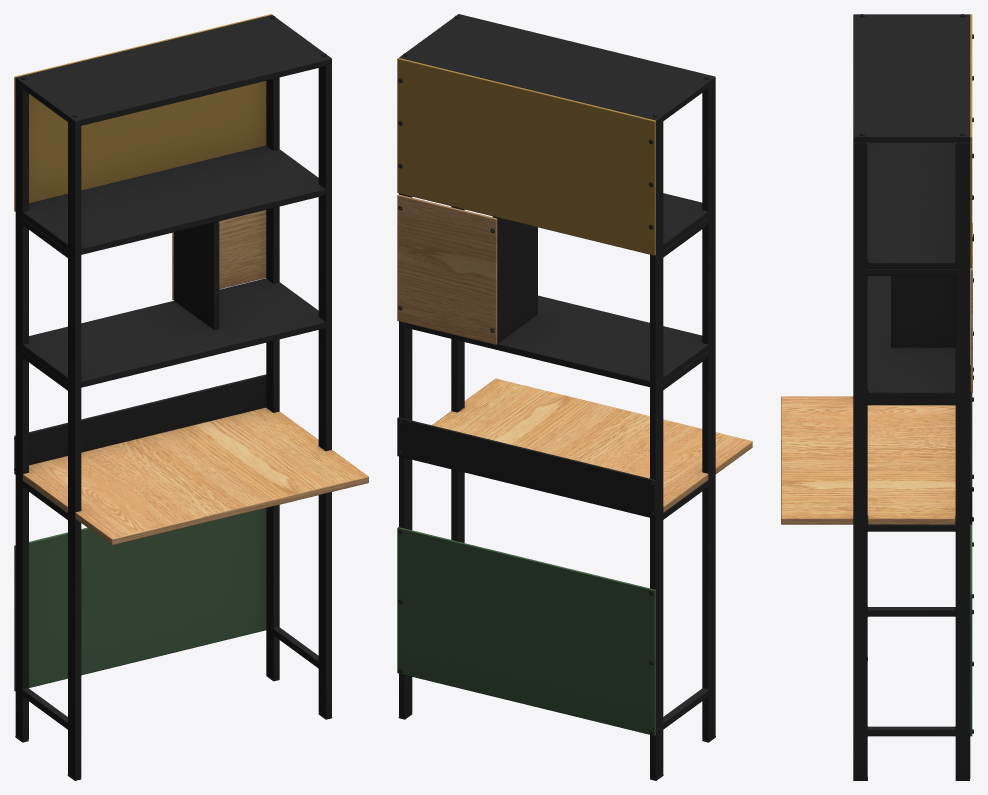
Rendered from DSKDUN001MUL-UK.fbx.
The picture shows the model from 3 angles, left to right: view 1: azimuth 30°, elevation 25°; view 2: azimuth 150°, elevation 25°; view 3: azimuth 270°, elevation 25°; orthographic projection. The views are drawn at different scales.
Parts seen in each view (by area): view 1: STEEL_BLACK001, GREEN001, WOOD001, YELLOW001; view 2: STEEL_BLACK001, GREEN001, YELLOW001, WOOD001; view 3: STEEL_BLACK001, WOOD001, YELLOW001, GREEN001.
Boxes of the visible parts, <box> form: STEEL_BLACK001: <box>14,15,332,780</box>; GREEN001: <box>14,508,266,691</box>; WOOD001: <box>23,210,368,545</box>; YELLOW001: <box>14,14,272,211</box>; STEEL_BLACK001: <box>397,14,715,780</box>; GREEN001: <box>397,527,655,735</box>; YELLOW001: <box>397,58,655,255</box>; WOOD001: <box>397,194,752,512</box>; STEEL_BLACK001: <box>853,14,973,780</box>; WOOD001: <box>781,223,972,524</box>; YELLOW001: <box>970,14,972,267</box>; GREEN001: <box>970,524,972,736</box>.
Size of what is drawn, in the model's own units: 75.14 by 184 by 49.85.
